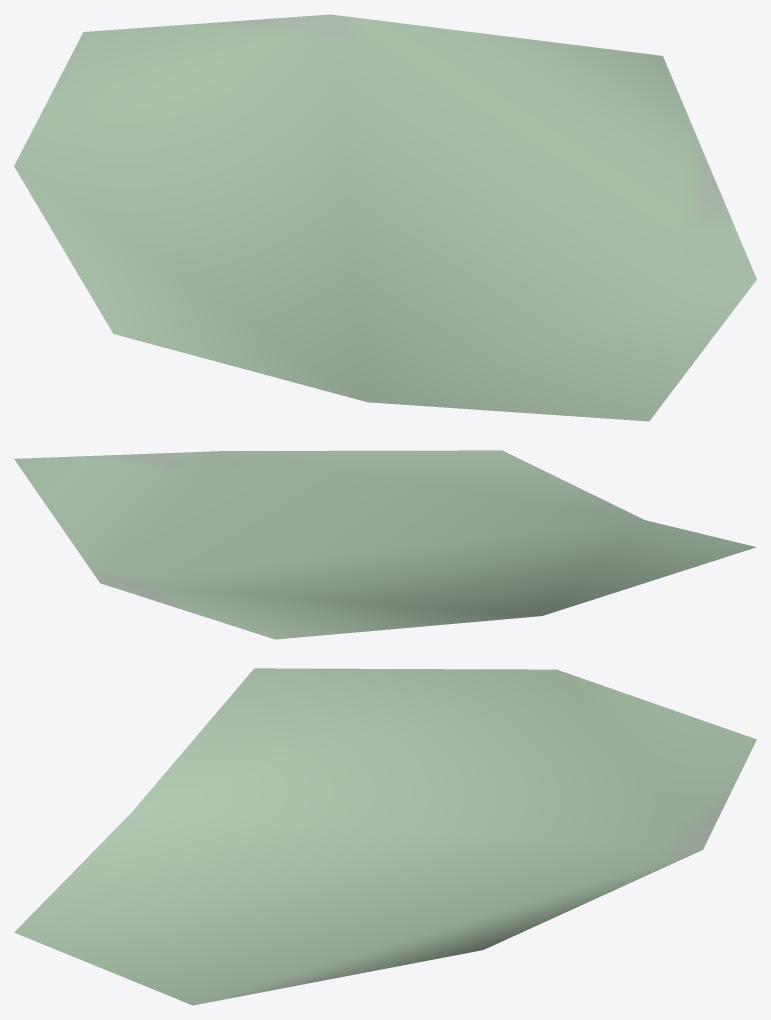
File: TROLLHOLE02_HOLECAP171.fbx
3 views of the same model, one above another, from view 1: azimuth 30°, elevation 25°; view 2: azimuth 150°, elevation 25°; view 3: azimuth 270°, elevation 25° (orthographic). The views are drawn at different scales.
Parts seen in each view (by area): view 1: TROLLHOLE02_HOLECAP171; view 2: TROLLHOLE02_HOLECAP171; view 3: TROLLHOLE02_HOLECAP171.
Part boxes in pixels (x1,y1,x2,y2): TROLLHOLE02_HOLECAP171: (14, 14, 756, 421); TROLLHOLE02_HOLECAP171: (14, 450, 756, 639); TROLLHOLE02_HOLECAP171: (14, 668, 756, 1005).
Size of the model in its own units: 33438 by 6262 by 34788.
Materials: 1 (1 with a texture image).
